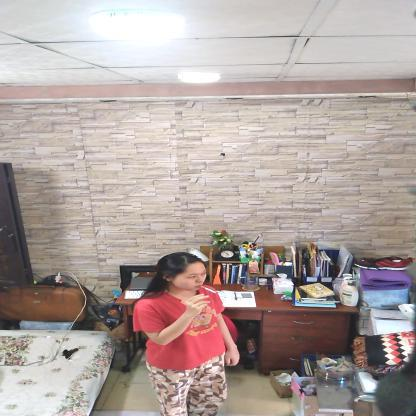cigarette: (201, 286, 217, 294)
person: (132, 252, 243, 415)
